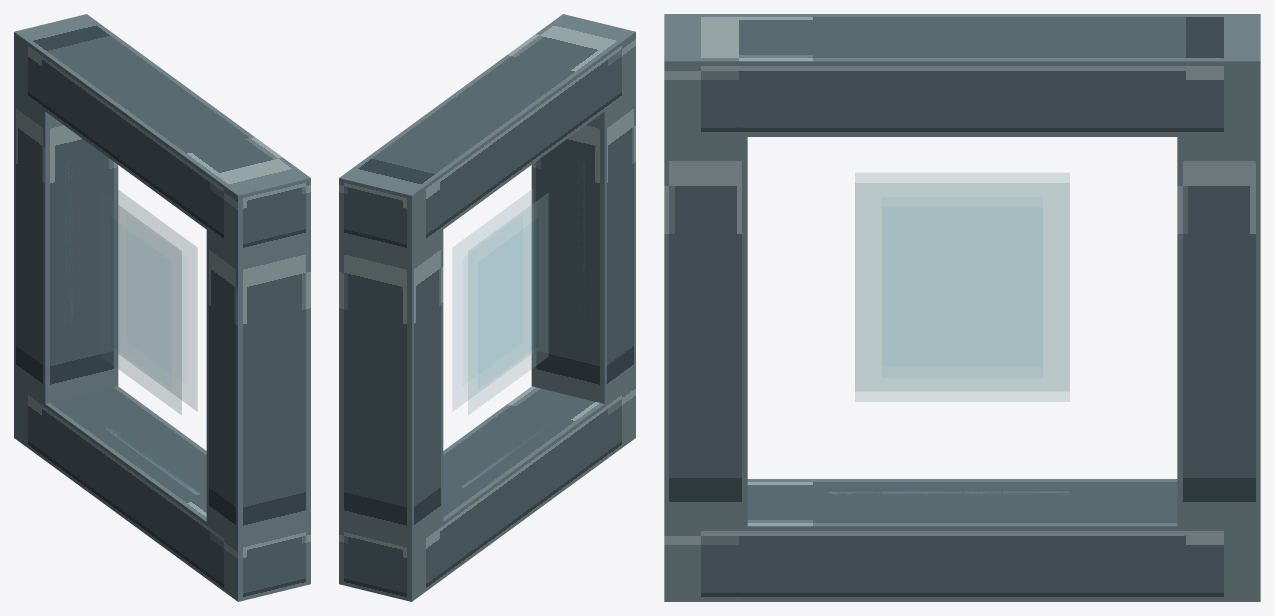
Rendered from window_d7_middle_x-3_y0.obj.
The picture shows the model from 3 angles, left to right: view 1: azimuth 30°, elevation 25°; view 2: azimuth 150°, elevation 25°; view 3: azimuth 270°, elevation 25°; orthographic projection. The views are drawn at different scales.
Parts seen in each view (by area): view 1: turbine_window_left; view 2: turbine_window_left; view 3: turbine_window_left.
Part boxes in pixels (box(x1,y1,x2,y2)): turbine_window_left: box(14, 14, 310, 601); turbine_window_left: box(339, 14, 635, 601); turbine_window_left: box(664, 14, 1260, 601).
Bounding box in the file's own units: 0.1875 × 1 × 1.
